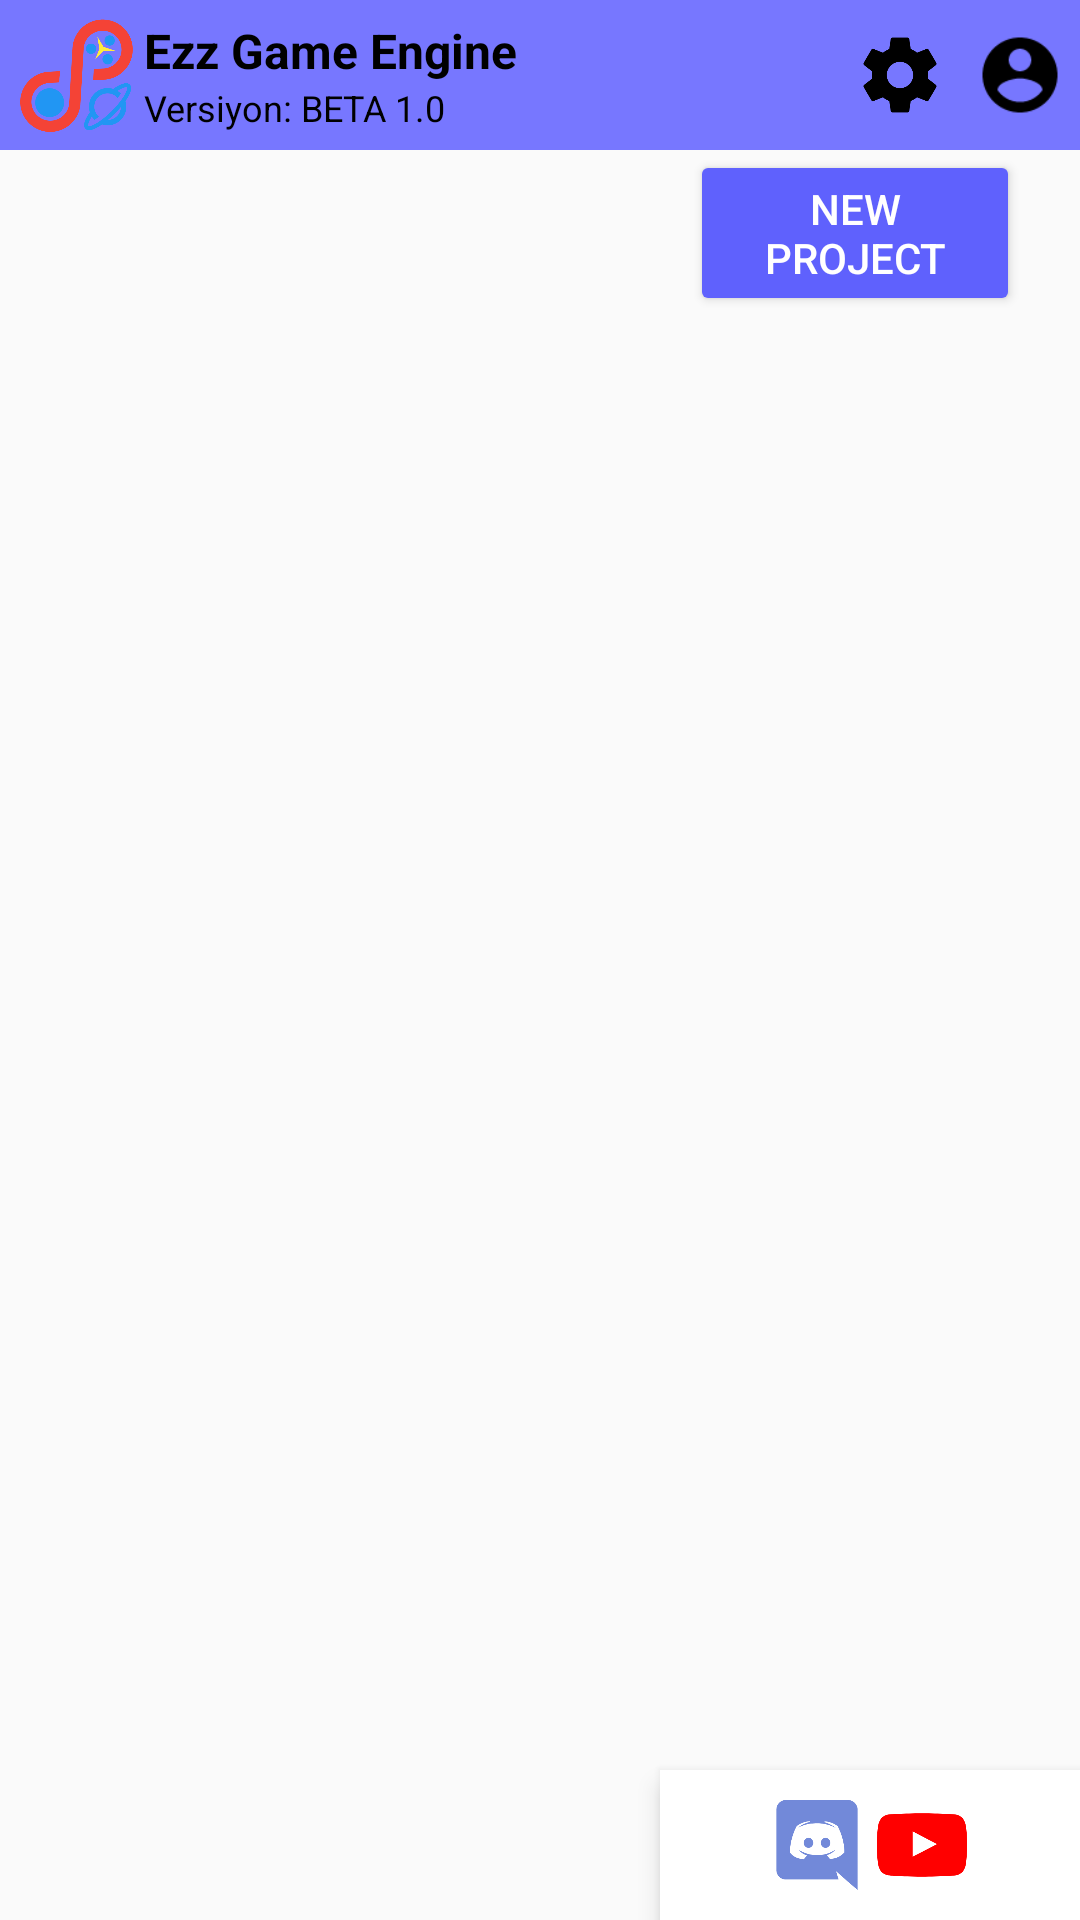

Named icons in this screenshot (1080px×1920px) and their centers, point (x, y):
account: point (1020, 75)
app: point (76, 75)
settings: point (900, 75)
